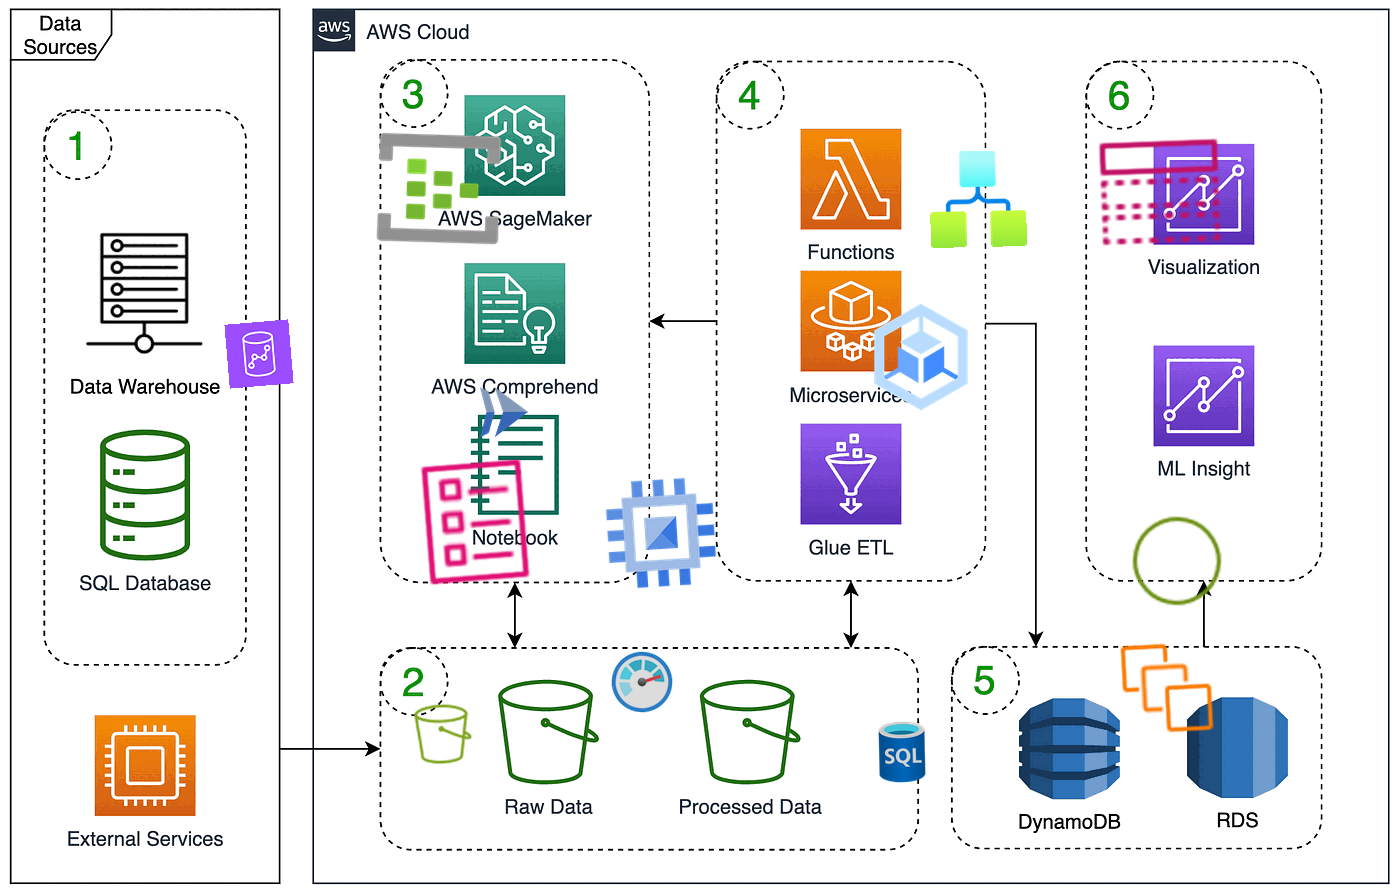aws_amazon_redshift: (224, 319, 294, 389)
aws_cloudformation_template: (405, 453, 543, 591)
aws_ec2_instances: (1116, 637, 1218, 739)
aws_simple_notification_service_topic: (1093, 125, 1227, 259)
aws_simple_storage_service_bucket: (410, 701, 476, 767)
aws_simple_storage_service_object: (1127, 511, 1227, 611)
azure_event_hubs: (373, 122, 505, 254)
azure_logic_apps: (929, 150, 1027, 248)
azure_monitor: (608, 648, 676, 716)
azure_sql_database: (869, 719, 935, 785)
gcp_cloud_run: (470, 379, 536, 445)
gcp_compute_engine: (593, 465, 729, 601)
gcp_google_kubernetes_engine: (856, 292, 986, 423)
